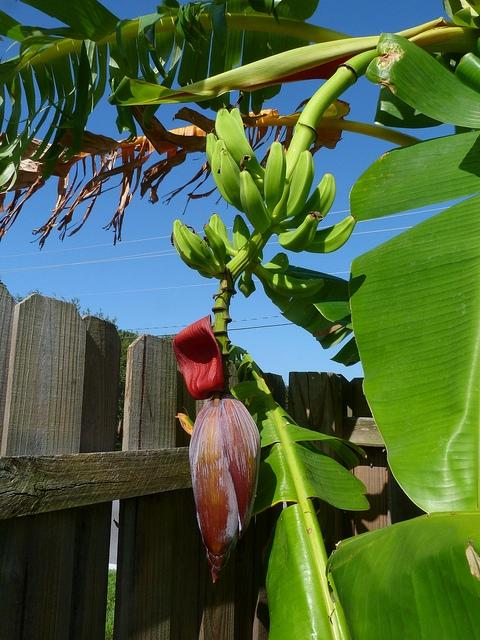banana: (215, 108, 265, 182), (273, 150, 315, 227), (280, 173, 336, 230), (282, 216, 358, 253), (173, 219, 220, 275), (252, 264, 324, 298), (240, 154, 270, 234), (178, 224, 222, 274), (269, 212, 324, 252), (264, 140, 286, 220), (219, 148, 244, 213), (211, 139, 235, 206), (174, 238, 214, 276), (208, 213, 238, 257), (203, 224, 226, 273), (232, 215, 250, 251), (262, 252, 288, 274), (238, 269, 256, 298), (230, 108, 246, 138), (206, 133, 218, 170)
